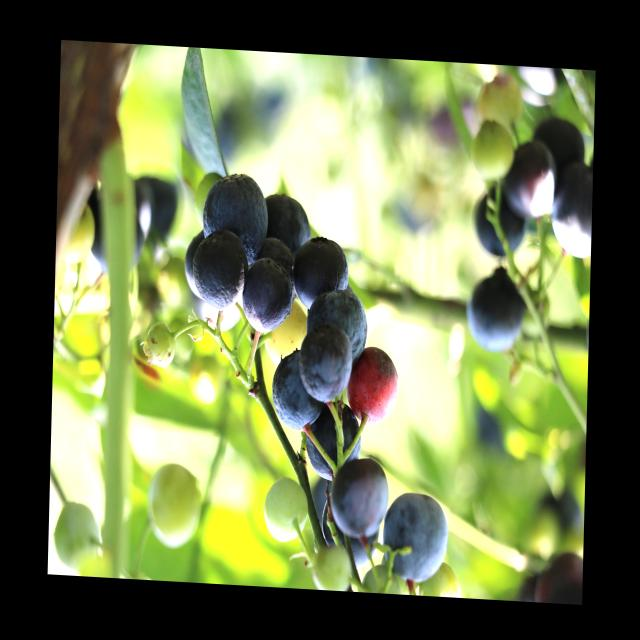blueberry: (381, 489, 452, 584), (203, 171, 267, 257), (293, 234, 354, 316), (465, 270, 521, 355), (331, 456, 388, 539), (298, 323, 355, 403), (192, 231, 248, 311), (308, 290, 370, 359), (308, 407, 362, 486), (504, 138, 555, 220), (470, 188, 526, 258), (274, 349, 323, 428), (246, 264, 293, 340)
blueberry-halfripe: (345, 341, 401, 430)
blueberry-unripe: (148, 462, 204, 554), (53, 500, 105, 574), (264, 476, 309, 542), (308, 541, 352, 591), (141, 320, 177, 372), (418, 561, 463, 598)
